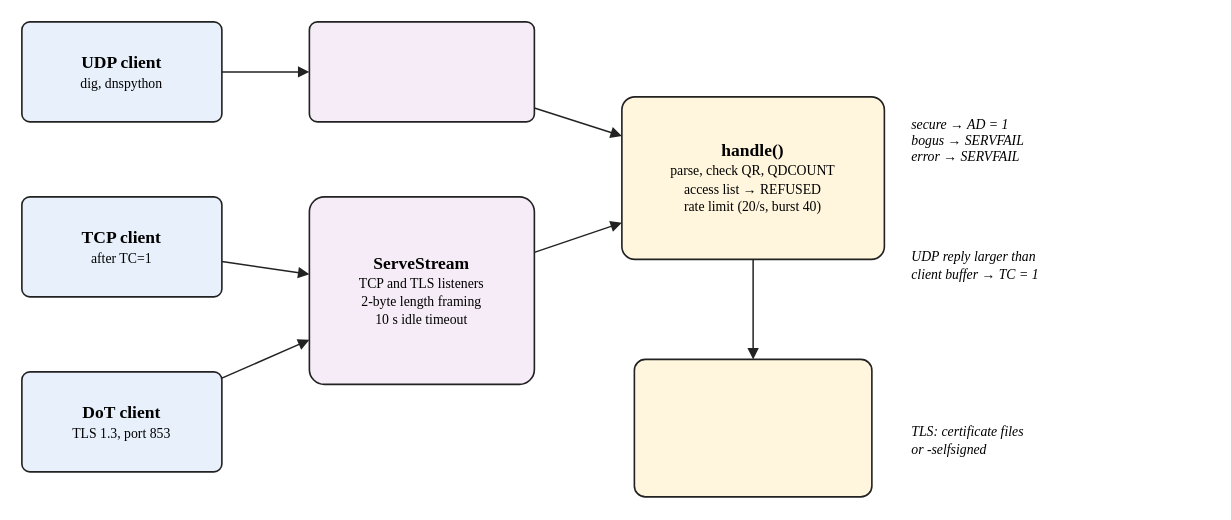
This 1231x520 diagram has some shape labels left out. The centre of each missing label's shape, as x and y in pixels:
"Resolver.Resolve shared caches (mutex) DNSSEC validation" belongs at point 752,427.
"ServeUDP drop if 256 in flight" belongs at point 421,71.
